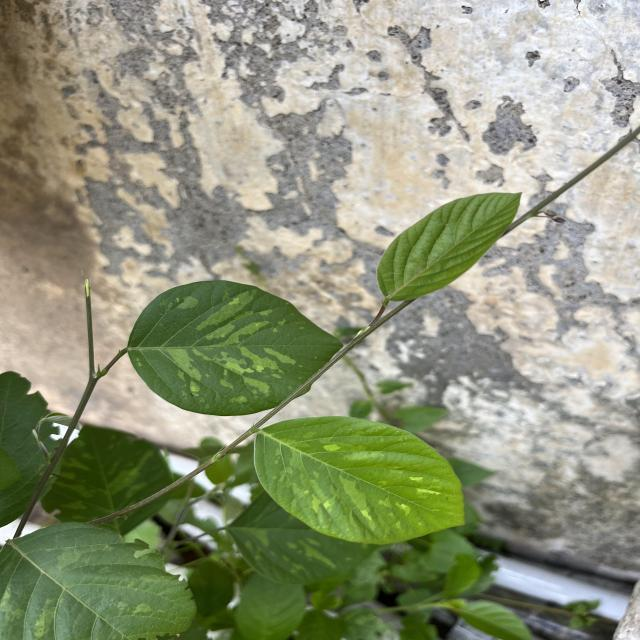Desmodium gangeticum: (122, 279, 346, 418)
